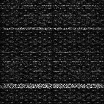lte: (1, 82, 104, 88), (1, 26, 104, 31)
